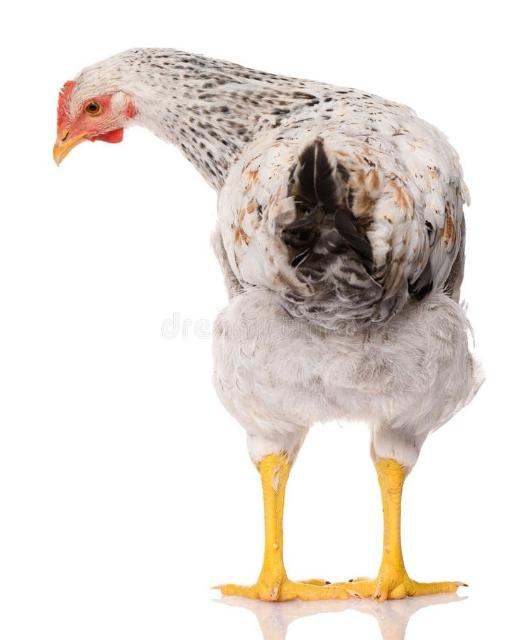Chicken: (52, 46, 483, 605)
